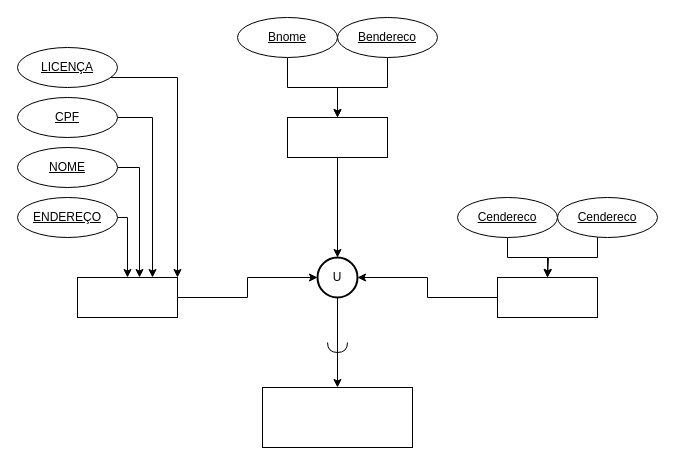
Some shapes in this 675 by 465 pixel diagram are drawn without their labels. Here are the shapes that lost their labels. From the top down, the centre of each, then its label:
At (x=337, y=137): "BANCO".
At (x=127, y=297): "PESSOA".
At (x=547, y=297): "COMPANY".
At (x=337, y=417): "OWNER".
